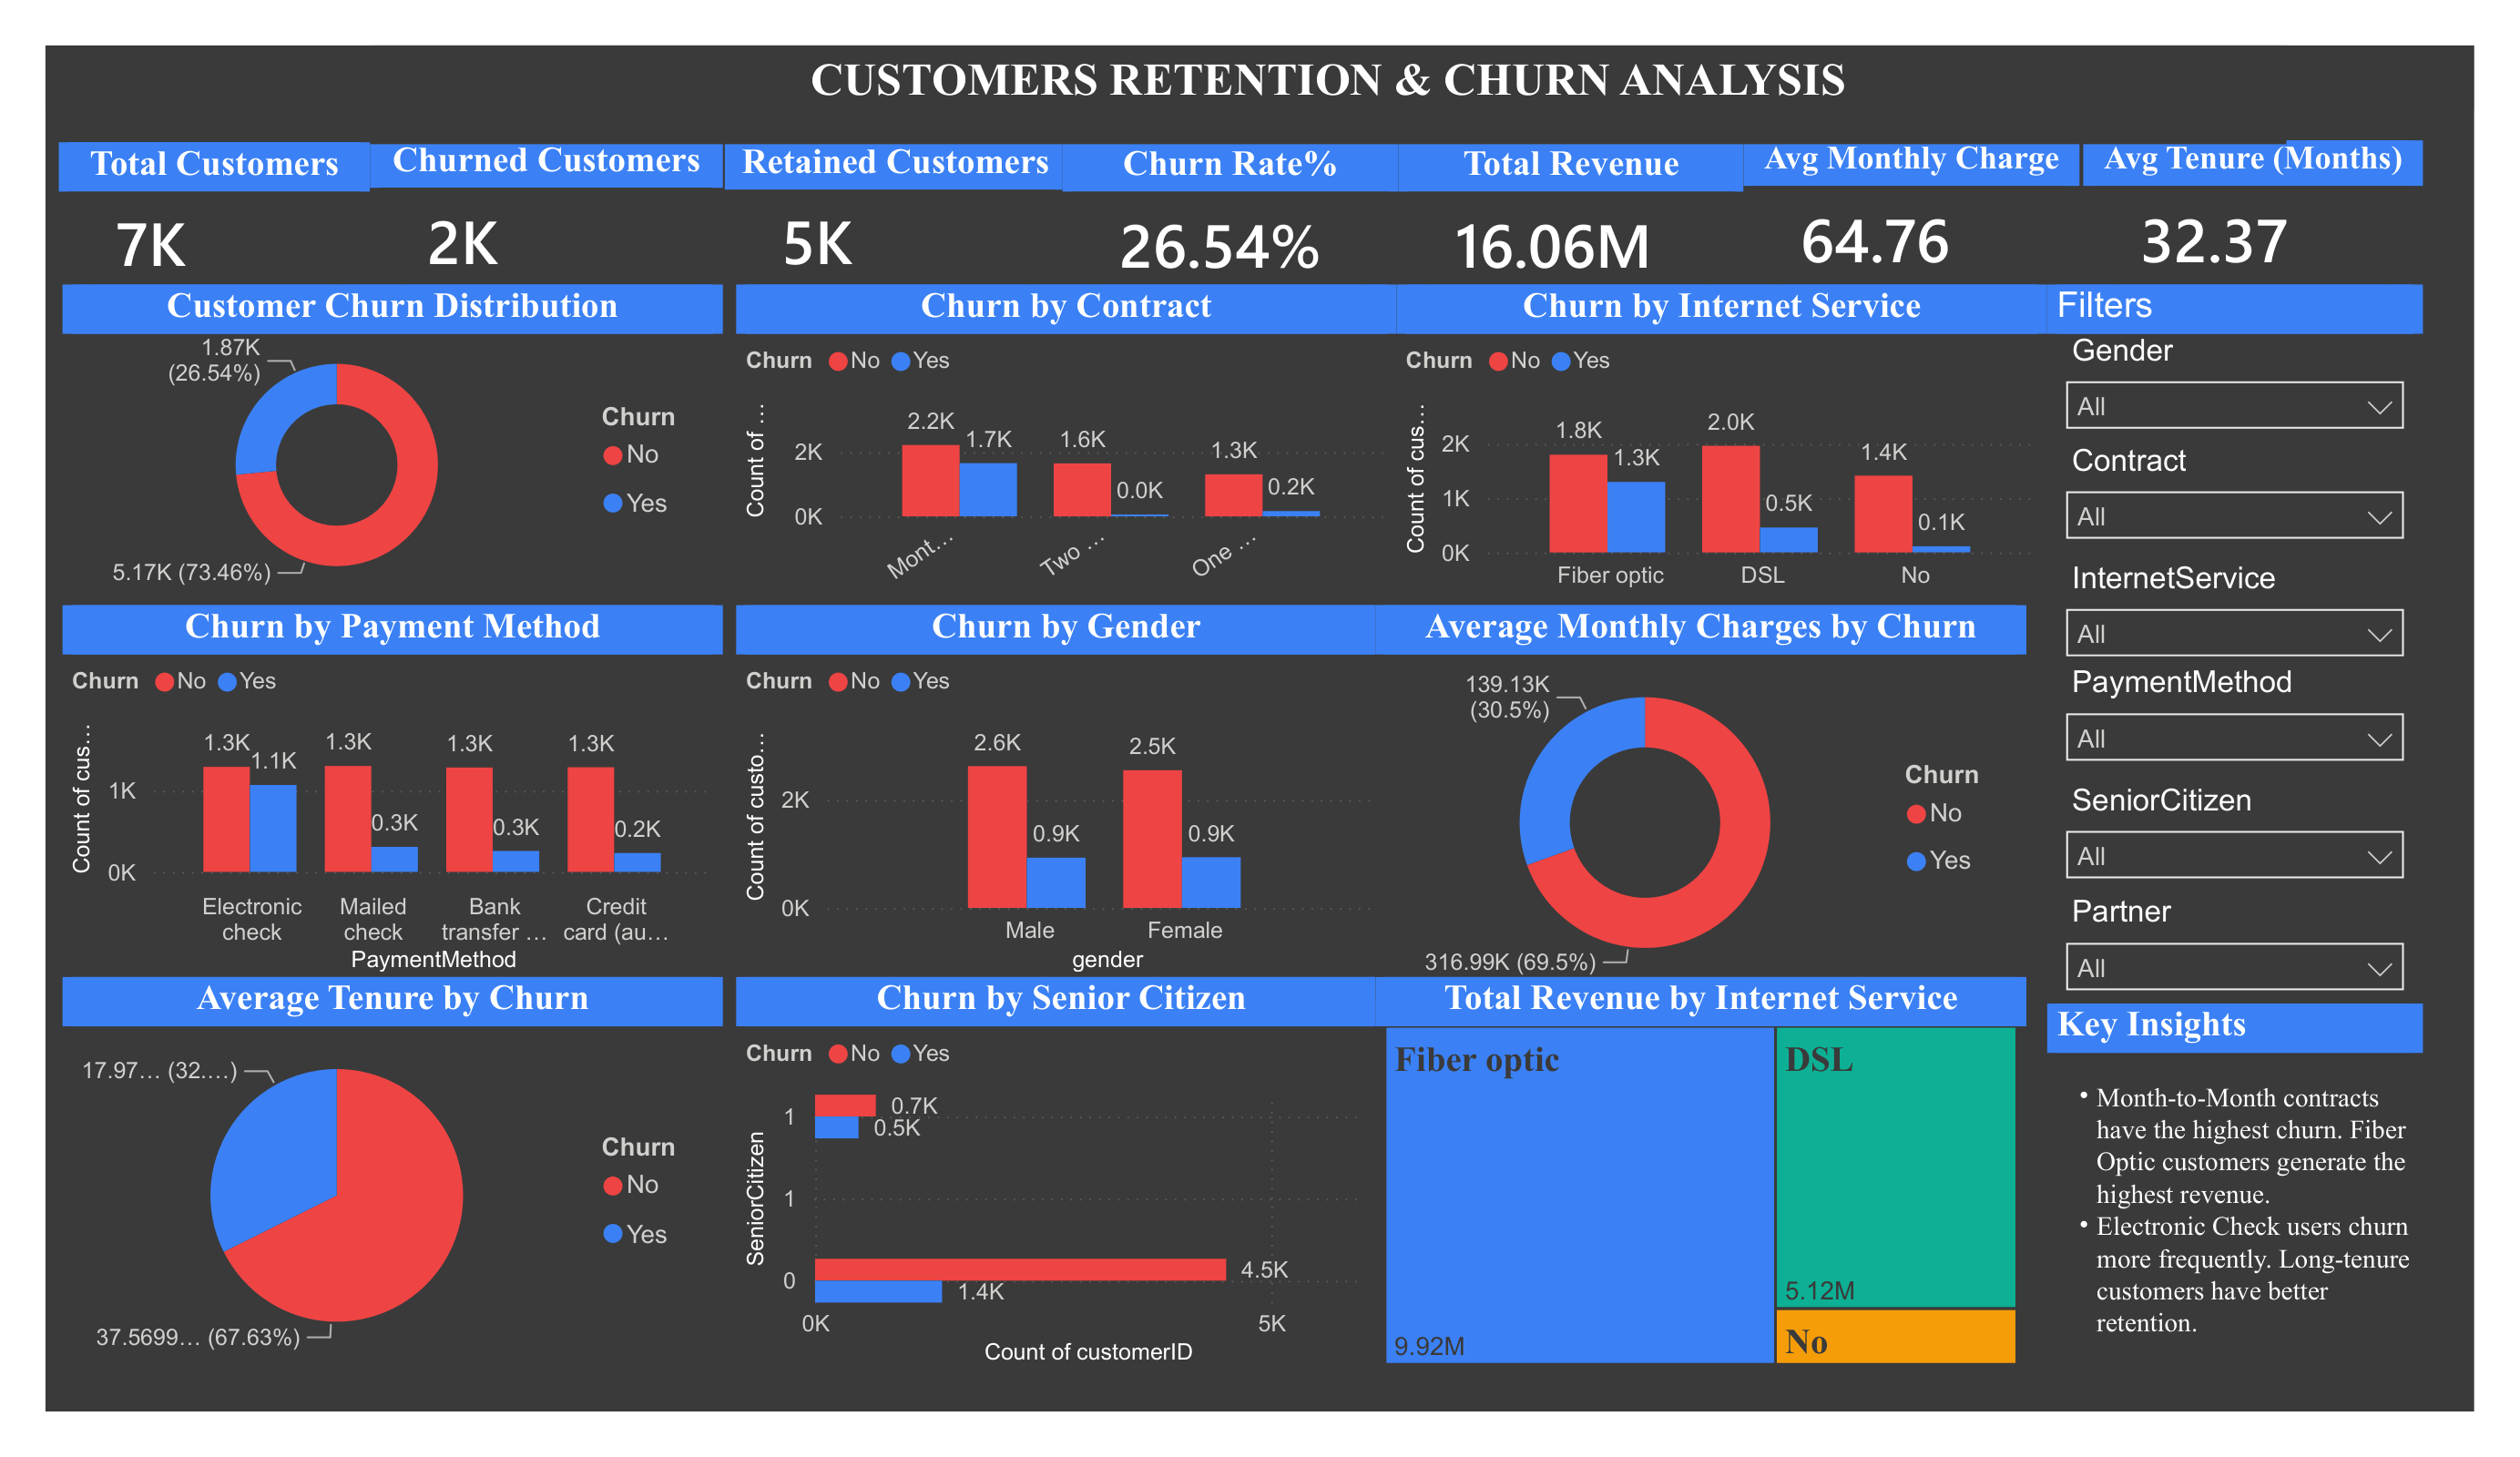

The dashboard page shown, as its layout file describes it:
{"tool":"powerbi","page":{"name":"Page 1","canvas":[1280,720],"ordinal":0},"visuals":[{"type":"cardVisual","title":"Total Customers","fields":{"Data":["WA_Fn-UseC_-Telco-Customer-Chur.Total Customers"]},"box":[7.2,50.7,164.1,100.1],"z":0},{"type":"cardVisual","title":"Churned Customers","fields":{"Data":["WA_Fn-UseC_-Telco-Customer-Chur.Churned Customers"]},"box":[171.3,49.5,185.8,102.5],"z":1000},{"type":"cardVisual","title":"Retained Customers","fields":{"Data":["WA_Fn-UseC_-Telco-Customer-Chur.Retained Customers"]},"box":[358.4,50,179.2,101.7],"z":2000},{"type":"cardVisual","title":"Churn Rate%","fields":{"Data":["WA_Fn-UseC_-Telco-Customer-Chur.Churn Rate %"]},"box":[535.7,50.7,177.3,102.5],"z":3000},{"type":"cardVisual","title":"Total Revenue","fields":{"Data":["WA_Fn-UseC_-Telco-Customer-Chur.Total Revenue"]},"box":[713,50.7,182.2,102.5],"z":4000},{"type":"cardVisual","title":"Avg Monthly Charge","fields":{"Data":["WA_Fn-UseC_-Telco-Customer-Chur.Average Monthly Charge"]},"box":[895.1,50.1,176.8,101.7],"z":5000},{"type":"cardVisual","title":"Avg Tenure (Months)","fields":{"Data":["WA_Fn-UseC_-Telco-Customer-Chur.Average Tenure"]},"box":[1073.6,50,179.2,101.7],"z":6000},{"type":"donutChart","title":"Customer Churn Distribution","fields":{"Y":["CountNonNull(WA_Fn-UseC_-Telco-Customer-Chur.customerID)"],"Category":["WA_Fn-UseC_-Telco-Customer-Chur.Churn"]},"box":[8.6,125.8,348.1,168.9],"z":7000},{"type":"clusteredColumnChart","title":"Churn by Contract","fields":{"Category":["WA_Fn-UseC_-Telco-Customer-Chur.Contract"],"Y":["CountNonNull(WA_Fn-UseC_-Telco-Customer-Chur.customerID)"],"Series":["WA_Fn-UseC_-Telco-Customer-Chur.Churn"]},"box":[363.6,125.8,348.1,168.9],"z":8000},{"type":"clusteredColumnChart","title":"Churn by Internet Service","fields":{"Category":["WA_Fn-UseC_-Telco-Customer-Chur.InternetService"],"Y":["CountNonNull(WA_Fn-UseC_-Telco-Customer-Chur.customerID)"],"Series":["WA_Fn-UseC_-Telco-Customer-Chur.Churn"]},"box":[711.7,125.8,342.9,168.9],"z":9000},{"type":"clusteredColumnChart","title":"Churn by Payment Method","fields":{"Category":["WA_Fn-UseC_-Telco-Customer-Chur.PaymentMethod"],"Series":["WA_Fn-UseC_-Telco-Customer-Chur.Churn"],"Y":["CountNonNull(WA_Fn-UseC_-Telco-Customer-Chur.customerID)"]},"box":[8.6,294.7,348.1,198.2],"z":10000},{"type":"clusteredColumnChart","title":"Churn by Gender","fields":{"Category":["WA_Fn-UseC_-Telco-Customer-Chur.gender"],"Series":["WA_Fn-UseC_-Telco-Customer-Chur.Churn"],"Y":["CountNonNull(WA_Fn-UseC_-Telco-Customer-Chur.customerID)"]},"box":[363.6,294.7,348.1,198.2],"z":11000},{"type":"clusteredBarChart","title":"Churn by Senior Citizen","fields":{"Category":["WA_Fn-UseC_-Telco-Customer-Chur.SeniorCitizen"],"Y":["CountNonNull(WA_Fn-UseC_-Telco-Customer-Chur.customerID)"],"Series":["WA_Fn-UseC_-Telco-Customer-Chur.Churn"]},"box":[363.6,491.1,342.9,208.5],"z":12000},{"type":"donutChart","title":"Average Monthly Charges by Churn","fields":{"Category":["WA_Fn-UseC_-Telco-Customer-Chur.Churn"],"Y":["Sum(WA_Fn-UseC_-Telco-Customer-Chur.MonthlyCharges)"]},"box":[701.3,294.7,342.9,208.5],"z":13000},{"type":"pieChart","title":"Average Tenure by Churn","fields":{"Category":["WA_Fn-UseC_-Telco-Customer-Chur.Churn"],"Y":["WA_Fn-UseC_-Telco-Customer-Chur.Average Tenure"]},"box":[8.6,491.1,348.1,208.5],"z":14000},{"type":"treemap","title":"Total Revenue by Internet Service","fields":{"Group":["WA_Fn-UseC_-Telco-Customer-Chur.InternetService"],"Values":["Sum(WA_Fn-UseC_-Telco-Customer-Chur.TotalCharges)"]},"box":[701.3,491.1,342.9,208.5],"z":15000},{"type":"slicer","title":"Filters","fields":{"Values":["WA_Fn-UseC_-Telco-Customer-Chur.gender"]},"box":[1054.6,125.8,198.2,103.4],"z":16000},{"type":"slicer","fields":{"Values":["WA_Fn-UseC_-Telco-Customer-Chur.Contract"]},"box":[1054.6,205.1,198.2,62],"z":17000},{"type":"slicer","fields":{"Values":["WA_Fn-UseC_-Telco-Customer-Chur.InternetService"]},"box":[1054.6,267.1,198.2,55.1],"z":18000},{"type":"slicer","fields":{"Values":["WA_Fn-UseC_-Telco-Customer-Chur.PaymentMethod"]},"box":[1054.6,322.2,198.2,62],"z":19000},{"type":"slicer","fields":{"Values":["WA_Fn-UseC_-Telco-Customer-Chur.SeniorCitizen"]},"box":[1054.6,384.3,198.2,58.6],"z":20000},{"type":"slicer","fields":{"Values":["WA_Fn-UseC_-Telco-Customer-Chur.Partner"]},"box":[1054.6,442.9,198.2,62],"z":21000},{"type":"textbox","title":"Key Insights","box":[1054.6,504.9,198.2,194.7],"z":22000},{"type":"textbox","box":[171.3,0,1009.8,51.9],"z":24000}]}

Visuals, with their boxes in screenshot pixels (x1, y1, x2, y2):
"Total Customers" cardVisual: region(40, 138, 359, 332)
"Churned Customers" cardVisual: region(359, 136, 719, 334)
"Retained Customers" cardVisual: region(722, 137, 1070, 334)
"Churn Rate%" cardVisual: region(1066, 138, 1411, 337)
"Total Revenue" cardVisual: region(1411, 138, 1764, 337)
"Avg Monthly Charge" cardVisual: region(1764, 137, 2107, 334)
"Avg Tenure (Months)" cardVisual: region(2111, 137, 2459, 334)
"Customer Churn Distribution" donutChart: region(43, 283, 719, 611)
"Churn by Contract" clusteredColumnChart: region(732, 283, 1408, 611)
"Churn by Internet Service" clusteredColumnChart: region(1408, 283, 2074, 611)
"Churn by Payment Method" clusteredColumnChart: region(43, 611, 719, 996)
"Churn by Gender" clusteredColumnChart: region(732, 611, 1408, 996)
"Churn by Senior Citizen" clusteredBarChart: region(732, 993, 1398, 1398)
"Average Monthly Charges by Churn" donutChart: region(1388, 611, 2054, 1016)
"Average Tenure by Churn" pieChart: region(43, 993, 719, 1398)
"Total Revenue by Internet Service" treemap: region(1388, 993, 2054, 1398)
"Filters" slicer: region(2074, 283, 2459, 484)
slicer - WA_Fn-UseC_-Telco-Customer-Chur.Contract: region(2074, 437, 2459, 558)
slicer - WA_Fn-UseC_-Telco-Customer-Chur.InternetService: region(2074, 558, 2459, 665)
slicer - WA_Fn-UseC_-Telco-Customer-Chur.PaymentMethod: region(2074, 665, 2459, 785)
slicer - WA_Fn-UseC_-Telco-Customer-Chur.SeniorCitizen: region(2074, 785, 2459, 899)
slicer - WA_Fn-UseC_-Telco-Customer-Chur.Partner: region(2074, 899, 2459, 1020)
"Key Insights" textbox: region(2074, 1020, 2459, 1398)
textbox: region(359, 39, 2320, 140)
